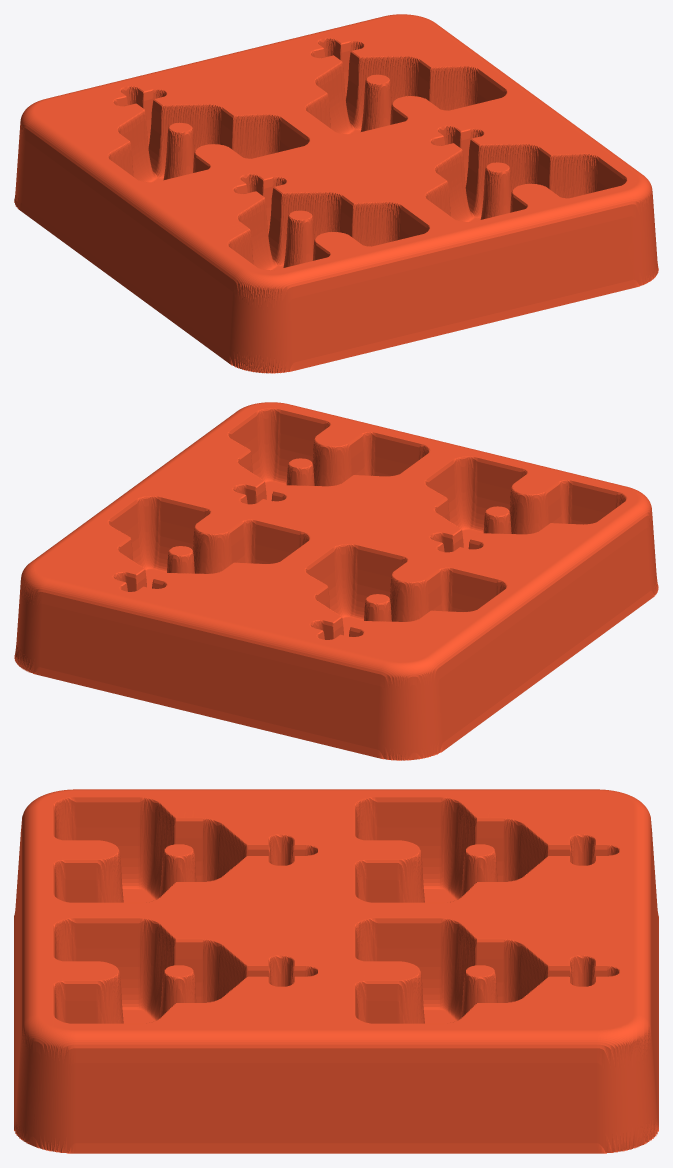
Rendered from mold.glb.
3 views of the same model, one above another, from view 1: azimuth 30°, elevation 25°; view 2: azimuth 150°, elevation 25°; view 3: azimuth 270°, elevation 25° (orthographic). The views are drawn at different scales.
Visible parts, largest first — view 1: geometry_0; view 2: geometry_0; view 3: geometry_0.
Part boxes in pixels (x1=…): geometry_0: x1=14, y1=14, x2=658, y2=373; geometry_0: x1=14, y1=402, x2=658, y2=760; geometry_0: x1=14, y1=789, x2=658, y2=1153.
Bounding box in the file's own units: 0.0898 × 0.0182 × 0.0942.
